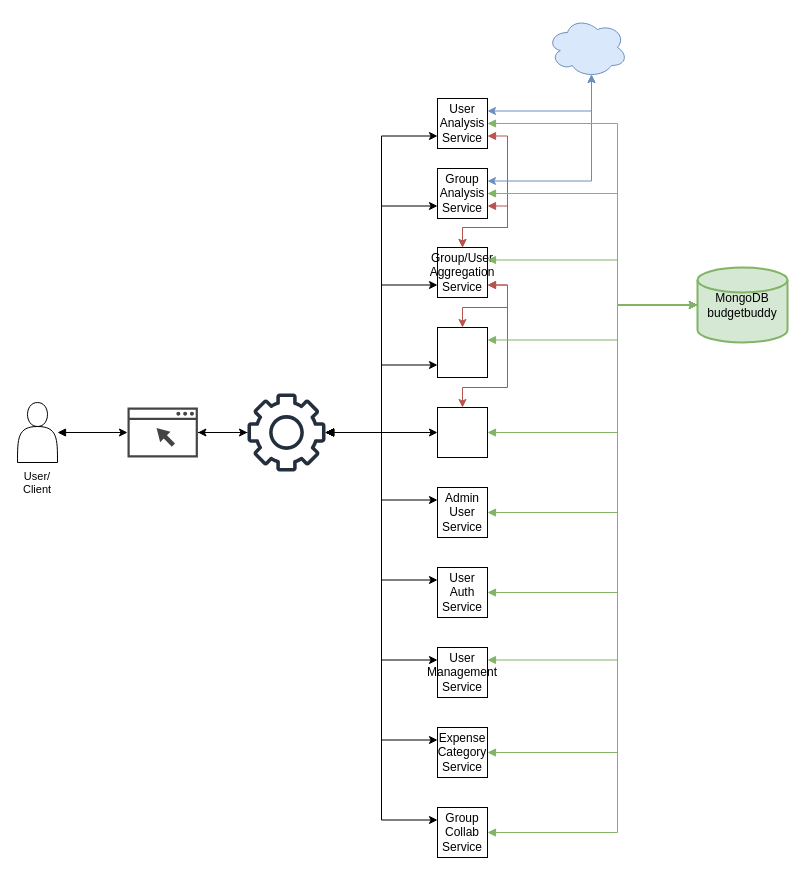
This 806x875 diagram has some shape labels left out. The centre of each missing label's shape, as x and y in pixels:
Budget Management Service: (x=462, y=352)
BudgetBuddy: (x=162, y=432)
BudgetBuddy RestAPI: (x=286, y=432)
Expense Tracking Service: (x=462, y=432)
Quick Charts API: (x=587, y=47)
